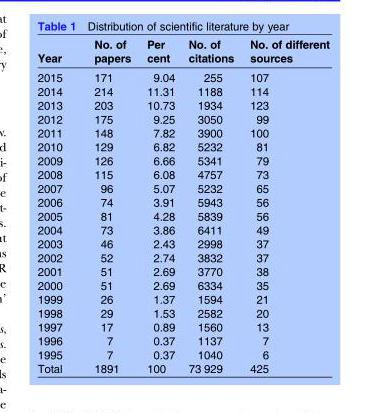table: (36, 36, 328, 374)
table column: (241, 36, 328, 374), (77, 36, 138, 374), (181, 36, 241, 374), (138, 36, 181, 374), (36, 36, 77, 374)
table column header: (36, 36, 328, 67)
table row: (36, 36, 328, 67), (36, 67, 328, 83), (36, 83, 328, 97), (36, 97, 328, 111), (36, 111, 328, 125), (36, 125, 328, 139), (36, 139, 328, 153), (36, 153, 328, 167), (36, 180, 328, 194), (36, 194, 328, 208), (36, 208, 328, 222), (36, 222, 328, 236), (36, 236, 328, 250), (36, 250, 328, 264), (36, 277, 328, 291), (36, 291, 328, 305), (36, 305, 328, 319), (36, 319, 328, 333), (36, 333, 328, 347), (36, 347, 328, 361), (36, 167, 328, 180), (36, 264, 328, 277), (36, 361, 328, 374)
